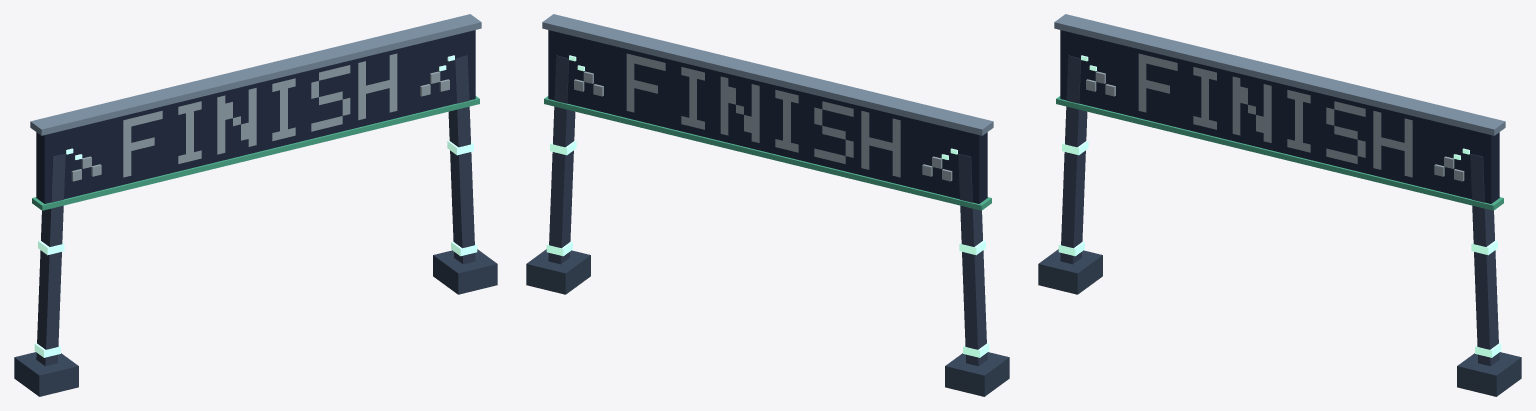
File: finish.glb
3 renders of one model, left to right at view 1: azimuth 30°, elevation 25°; view 2: azimuth 150°, elevation 25°; view 3: azimuth 330°, elevation 25°, orthographic.
Visible parts, largest first — view 1: finish; view 2: finish; view 3: finish.
Part boxes in pixels (x1=…): finish: x1=14, y1=14, x2=497, y2=396; finish: x1=526, y1=14, x2=1009, y2=396; finish: x1=1038, y1=14, x2=1521, y2=396.
Size of the model in its own units: 9.89 by 5.36 by 0.94.
